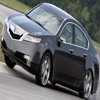Car: (1, 1, 100, 93)
